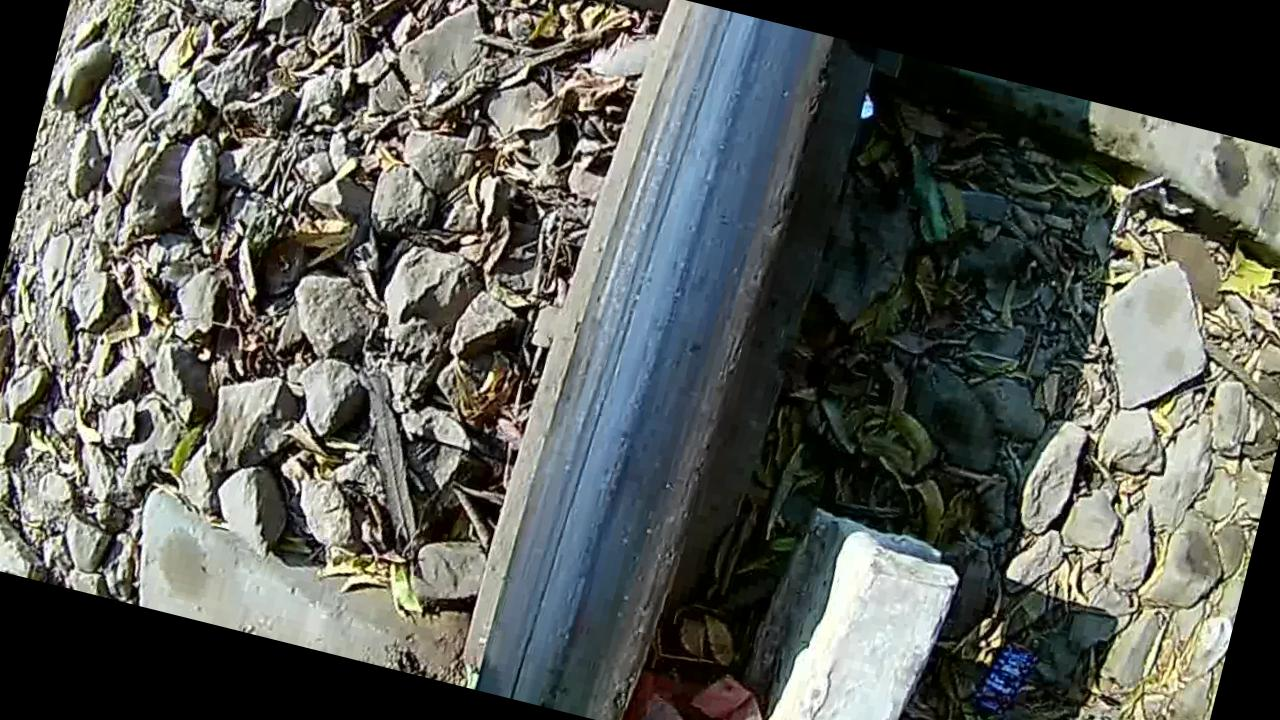clip_missing: (489, 0, 827, 720)
